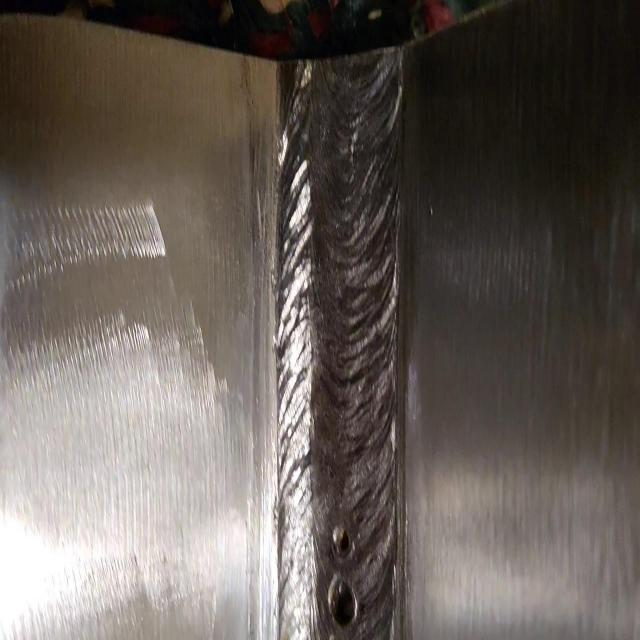Welding Line: (286, 58, 401, 640)
Workpiece: (5, 42, 640, 640)
porosity: (326, 522, 358, 634)
